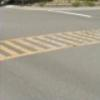crosswalks: (0, 36, 29, 60), (24, 34, 52, 55), (71, 28, 100, 46), (48, 32, 74, 50)
